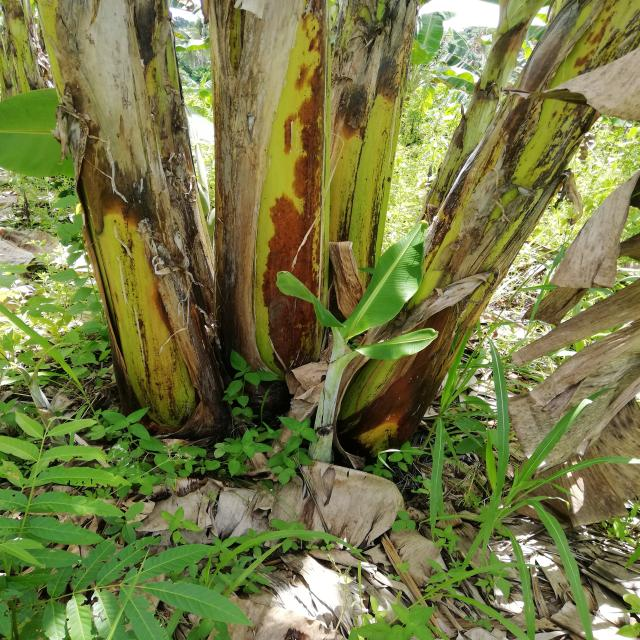Banana-plant: (290, 0, 640, 464), (0, 0, 245, 424), (215, 0, 411, 436)
